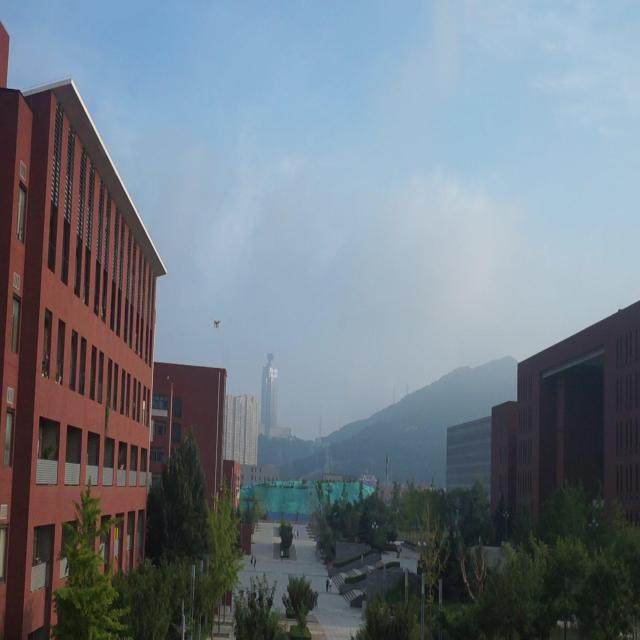drone: (212, 314, 222, 331)
